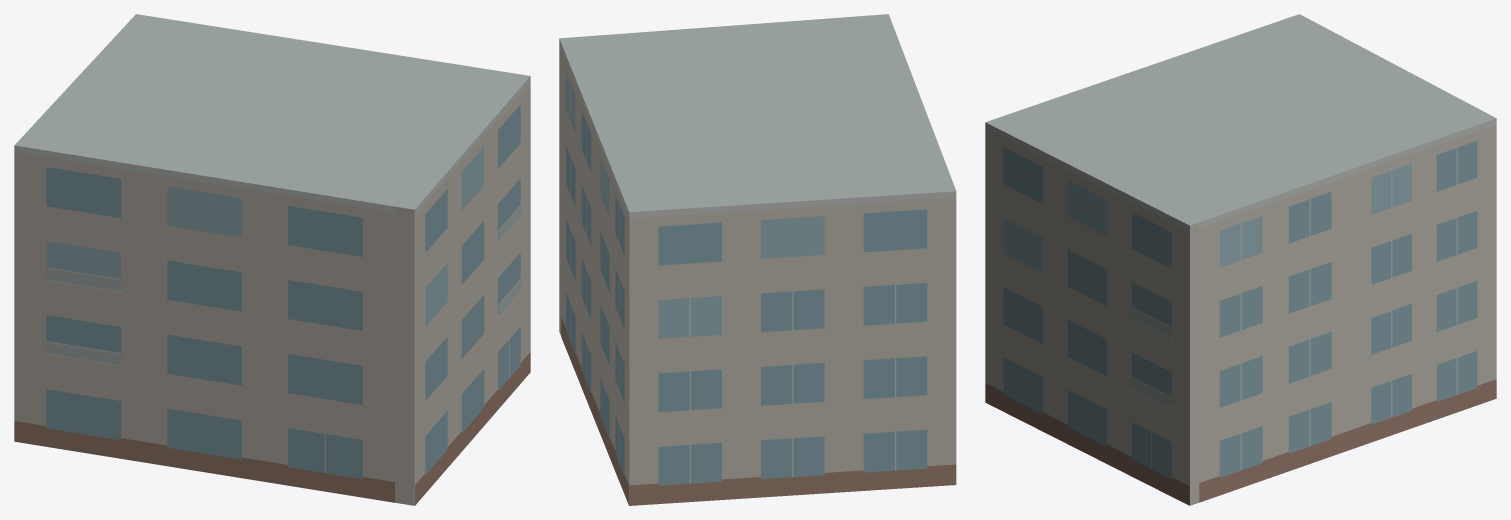
The model's file is survey-upis-32727645.glb.
3 renders of one model, left to right at view 1: azimuth 30°, elevation 25°; view 2: azimuth 150°, elevation 25°; view 3: azimuth 270°, elevation 25°, orthographic. The views are drawn at different scales.
Visible parts, largest first — view 1: survey-upis-32727645.tmp; view 2: survey-upis-32727645.tmp; view 3: survey-upis-32727645.tmp.
Part boxes in pixels (x1,y1,x2,y2): survey-upis-32727645.tmp: (14,14,530,505); survey-upis-32727645.tmp: (559,14,956,505); survey-upis-32727645.tmp: (985,14,1496,505).
Bounding box in the file's own units: 18.79 × 11.6 × 19.19.
